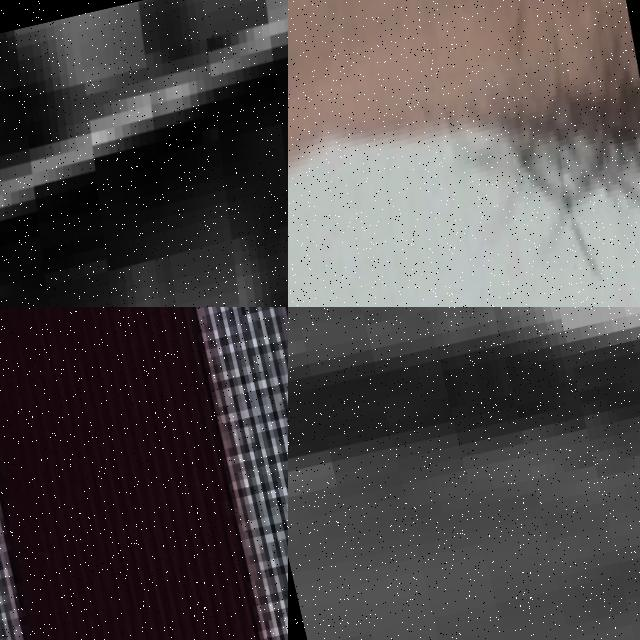drone: (288, 0, 640, 307), (0, 0, 288, 307)
